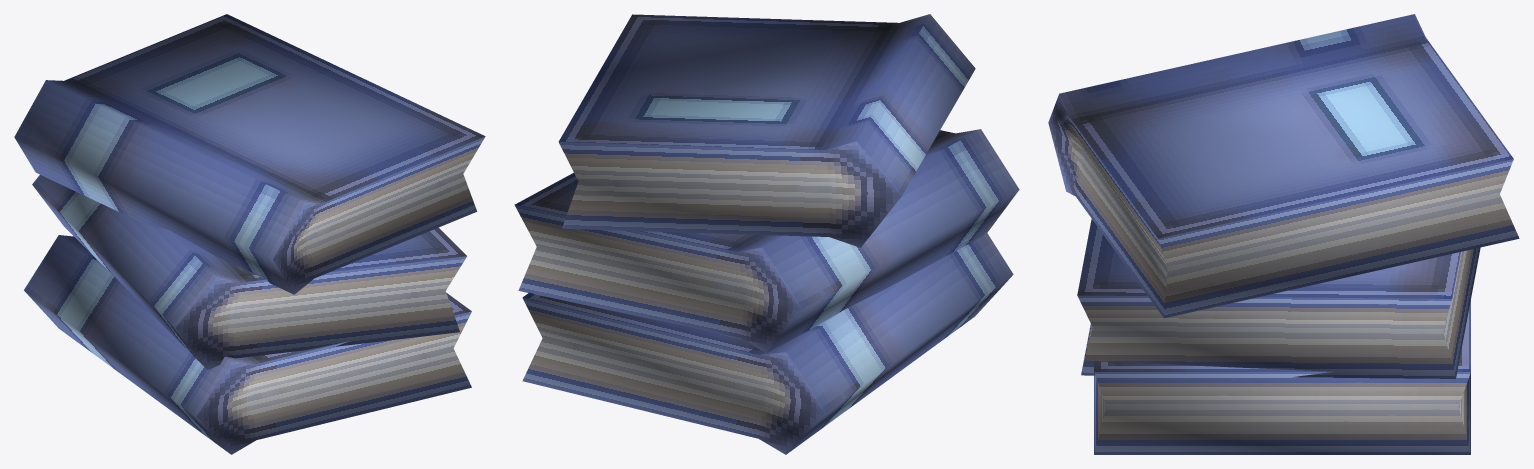
File: a_SWIbooks04_02.glb
The picture shows the model from 3 angles, left to right: view 1: azimuth 30°, elevation 25°; view 2: azimuth 150°, elevation 25°; view 3: azimuth 270°, elevation 25°; orthographic projection. The views are drawn at different scales.
Parts seen in each view (by area): view 1: a_SWIbooks04_02; view 2: a_SWIbooks04_02; view 3: a_SWIbooks04_02.
Part boxes in pixels (x1,y1,x2,y2): a_SWIbooks04_02: [14, 14, 485, 454]; a_SWIbooks04_02: [514, 14, 1019, 454]; a_SWIbooks04_02: [1048, 14, 1519, 454].
Bounding box in the file's own units: 0.5026 × 0.3704 × 0.5241.
1 material, 1 textured.
